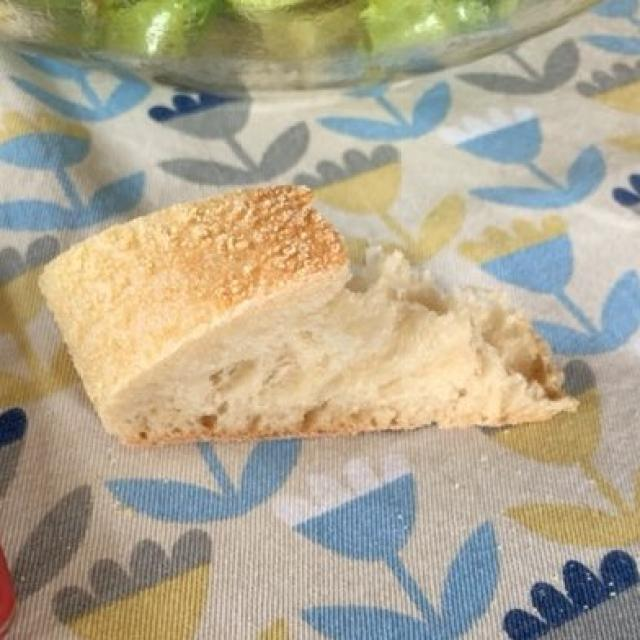bread: (51, 168, 562, 443)
